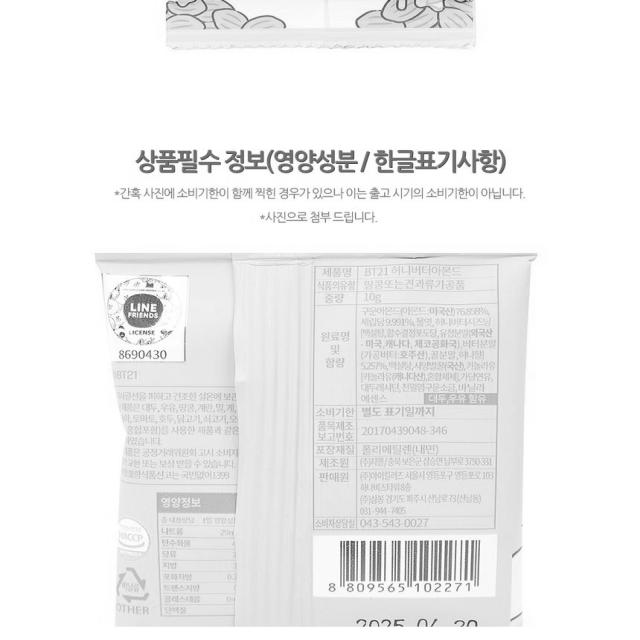Nutrition Label: (149, 483, 249, 629)
